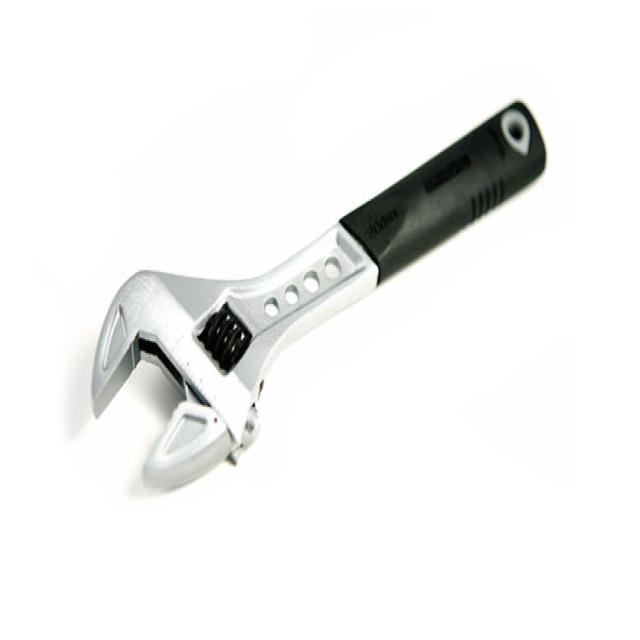wrench: (58, 86, 602, 520)
